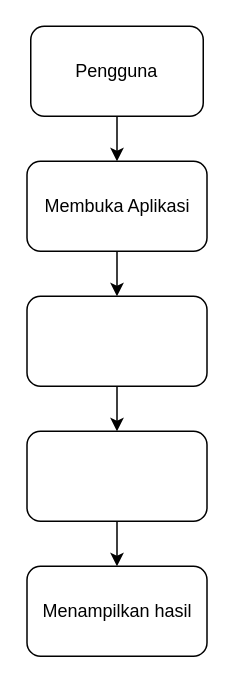
Some shapes in this 233 by 683 pixel diagram are drawn without their labels. The shapes that lost their labels are listed below. From the top down, each one's box as (x1, y1, x2, y2) in pixels, then its label:
(26, 295, 207, 386): Mengisi formulir data pasien
(26, 430, 207, 521): Melakukan prediksi
